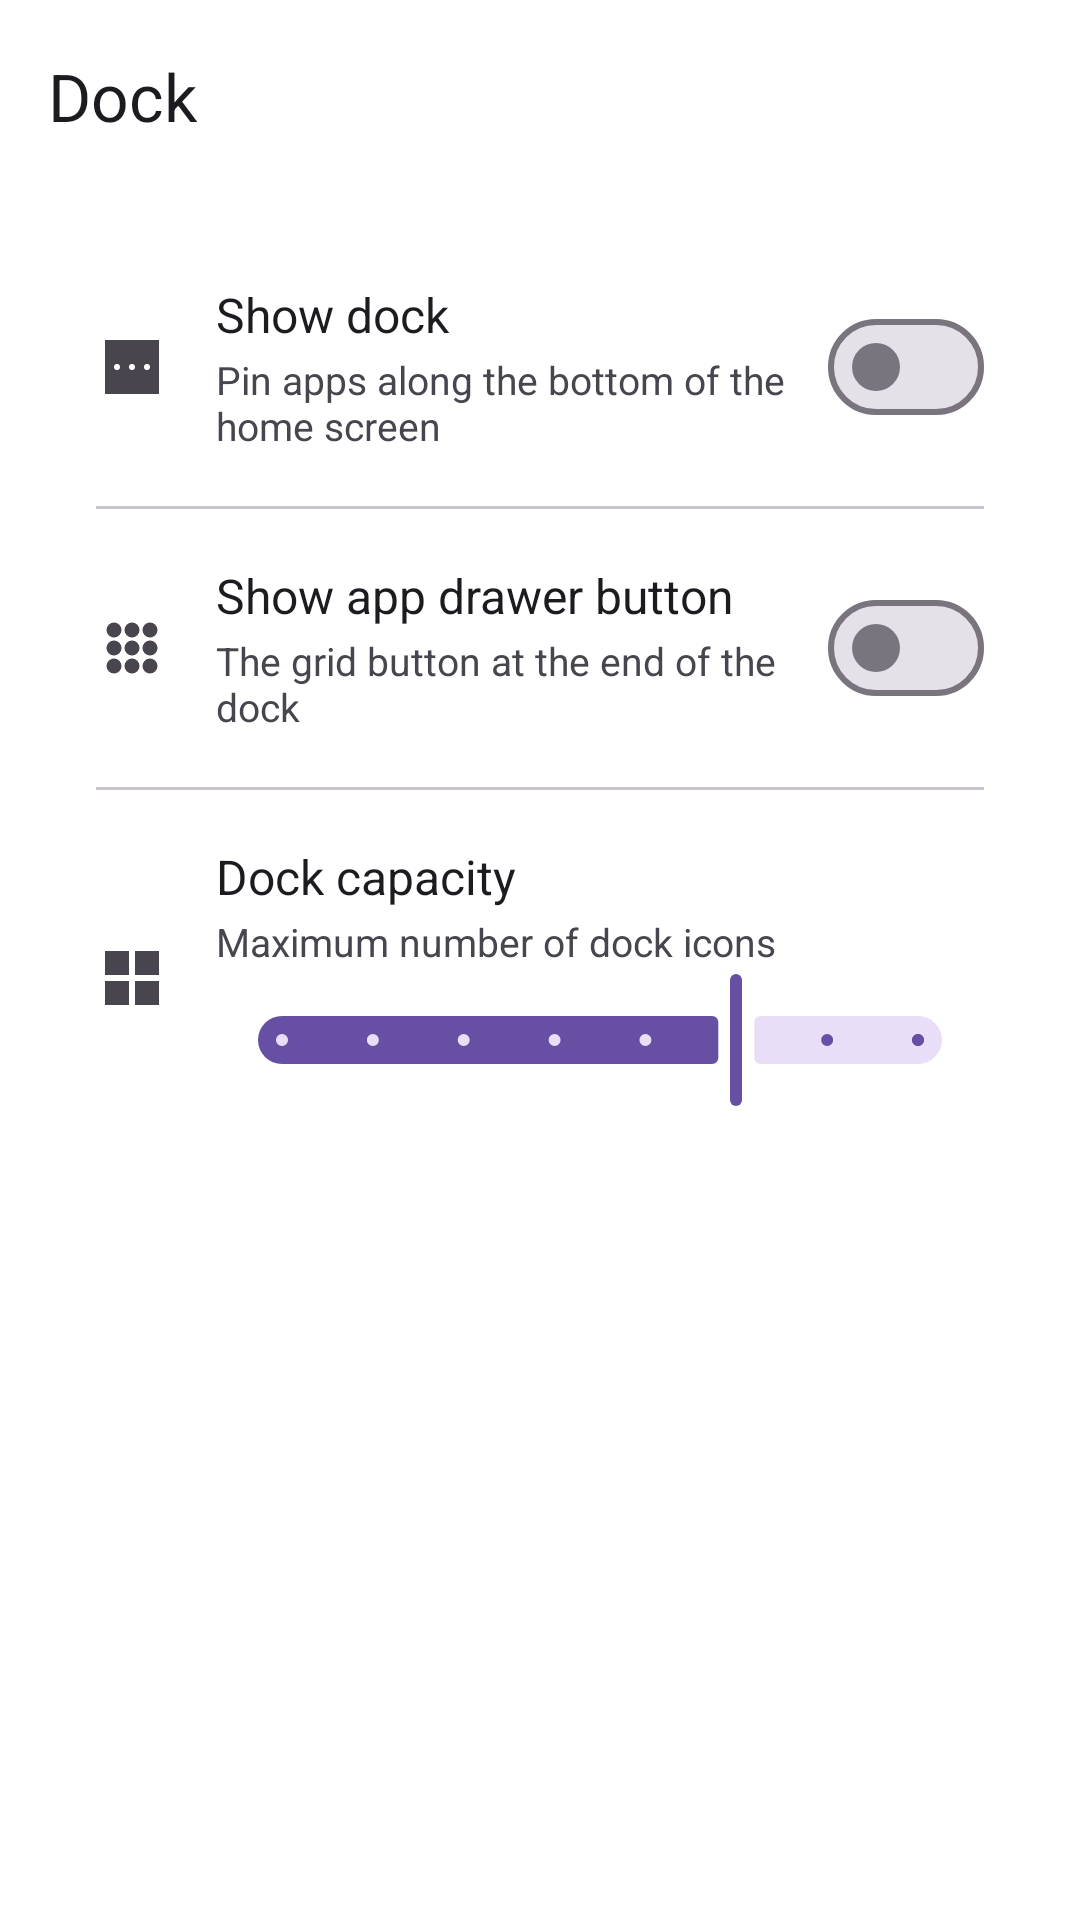

Where to tap for icons on this 1080w x 1920h app screen, as (x,y):
apps theme: (132,648)
grid: (132,978)
